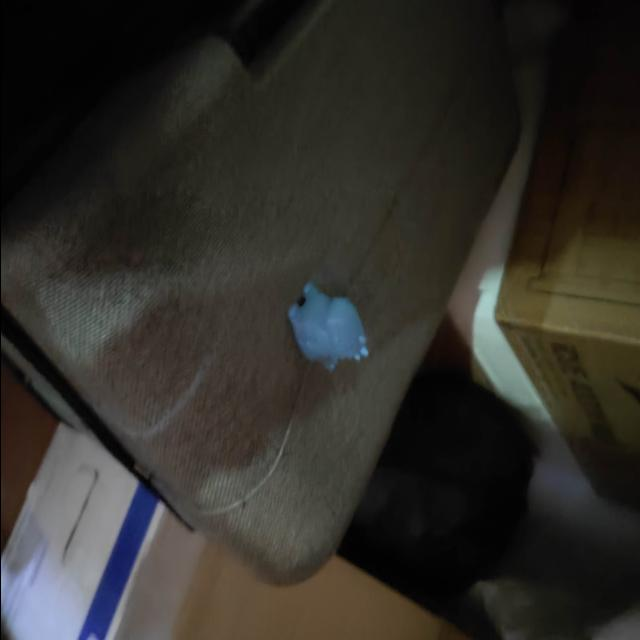DINO: (288, 277, 390, 379)
